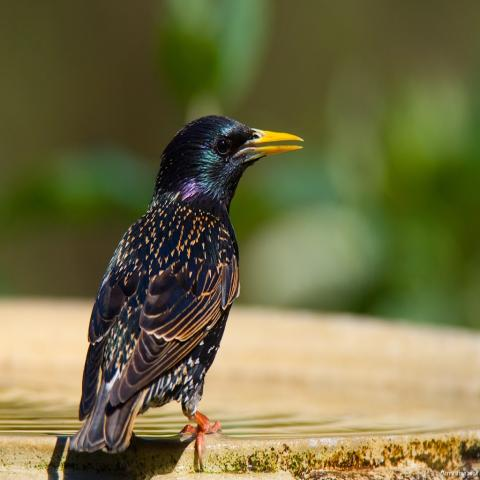bird: (68, 110, 304, 470)
